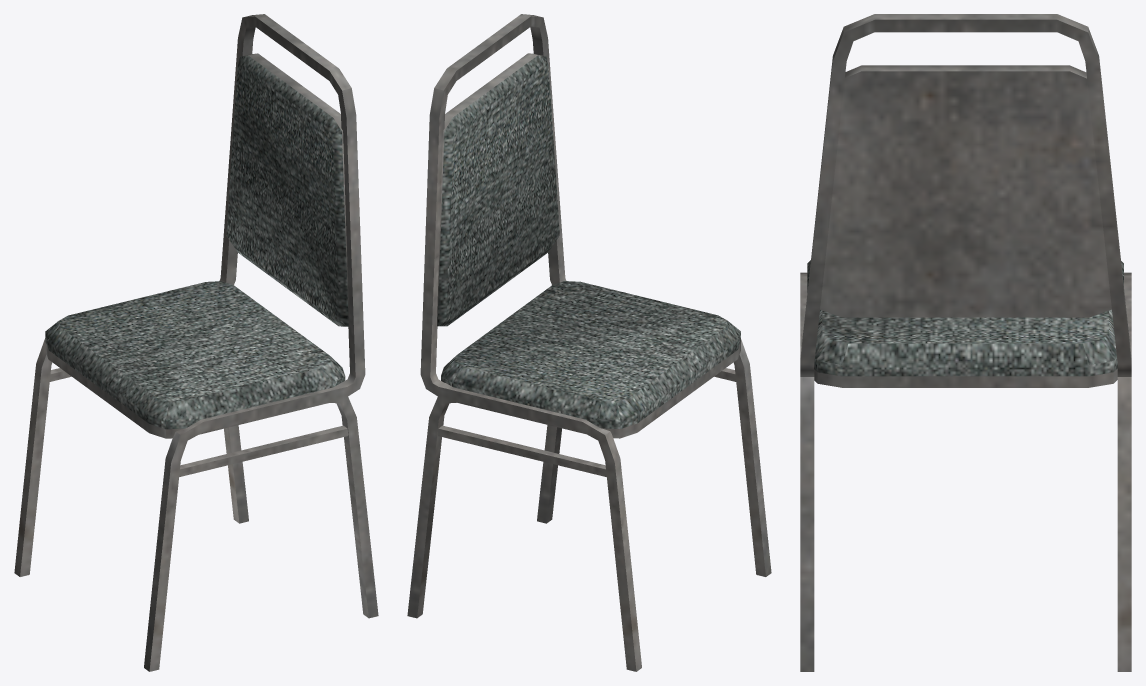
The model's file is chair.fbx.
The picture shows the model from 3 angles, left to right: view 1: azimuth 30°, elevation 25°; view 2: azimuth 150°, elevation 25°; view 3: azimuth 270°, elevation 25°; orthographic projection. The views are drawn at different scales.
Visible parts, largest first — view 1: Chair; view 2: Chair; view 3: Chair.
Boxes of the visible parts, <box> form: Chair: <box>14,14,378,671</box>; Chair: <box>407,14,771,671</box>; Chair: <box>800,14,1131,671</box>.
Bounding box in the file's own units: 54.77 × 121 × 55.92.
